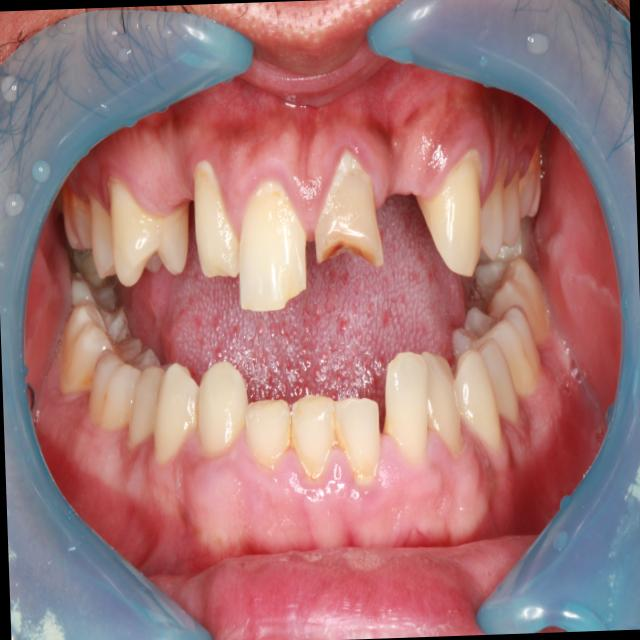tooth: (402, 132, 492, 285), (229, 159, 314, 319), (102, 158, 195, 293), (444, 293, 548, 406), (303, 142, 390, 276), (49, 295, 145, 402), (468, 246, 554, 353), (84, 337, 168, 439), (374, 342, 436, 477), (184, 148, 243, 281), (145, 350, 209, 470), (445, 340, 507, 459), (193, 347, 253, 462), (416, 336, 469, 465), (328, 382, 387, 490), (287, 383, 345, 492), (241, 385, 298, 477), (473, 335, 525, 434), (471, 157, 514, 265), (124, 358, 172, 454), (83, 183, 127, 284), (55, 175, 102, 255), (496, 160, 528, 252), (512, 144, 545, 222)
